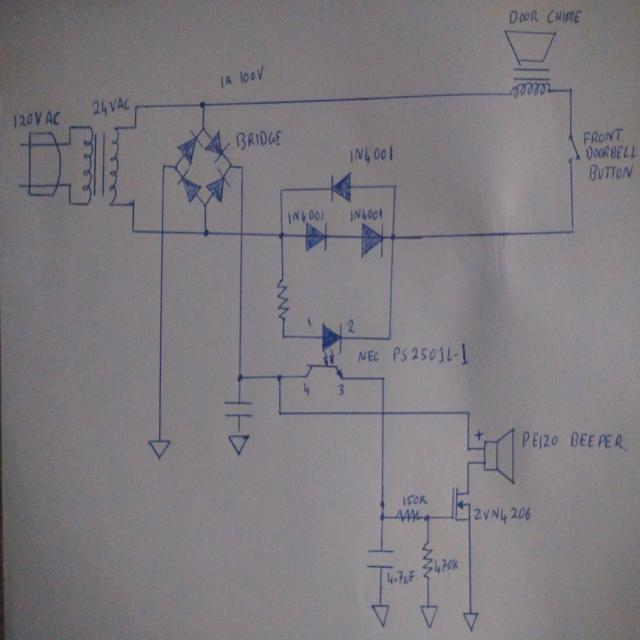capacitor: (365, 548, 395, 571), (223, 398, 253, 418)
crossover: (159, 226, 166, 236), (379, 408, 386, 417), (239, 230, 245, 238)
diode: (176, 130, 204, 166), (360, 221, 385, 260), (176, 168, 202, 204), (205, 167, 230, 203), (204, 130, 230, 163), (304, 220, 328, 253), (330, 170, 352, 204)
ground: (226, 430, 251, 458), (147, 438, 171, 461), (370, 603, 390, 629), (419, 604, 439, 630), (462, 610, 479, 632)
junction: (202, 227, 210, 238), (379, 512, 386, 522), (236, 373, 244, 381), (423, 514, 431, 522), (389, 232, 396, 241), (279, 230, 285, 240), (392, 183, 399, 191), (464, 408, 471, 416), (160, 162, 167, 170), (200, 125, 207, 133), (130, 199, 136, 208), (66, 139, 72, 148), (199, 100, 205, 109), (567, 87, 573, 96), (172, 163, 178, 172), (276, 374, 282, 382), (278, 186, 284, 194), (466, 444, 472, 452), (380, 375, 386, 382), (386, 334, 392, 341), (202, 201, 208, 208), (570, 228, 576, 235), (280, 332, 285, 340), (239, 164, 244, 172), (131, 228, 136, 235), (67, 200, 72, 207), (466, 459, 471, 466), (68, 181, 72, 189), (228, 162, 232, 170), (277, 410, 282, 416), (134, 104, 139, 110), (67, 124, 72, 130), (133, 124, 137, 131)
resistor: (275, 276, 291, 320), (421, 539, 434, 581), (394, 508, 420, 524)
switch: (567, 132, 582, 165)
terminal: (16, 181, 25, 190), (17, 140, 25, 148)
text: (355, 341, 472, 368), (521, 429, 628, 452), (473, 504, 532, 526), (508, 8, 582, 25), (219, 64, 265, 91), (235, 130, 282, 152), (349, 144, 393, 167), (587, 163, 634, 182), (92, 96, 130, 119), (584, 144, 638, 160), (13, 110, 60, 128), (583, 127, 623, 146), (287, 209, 325, 225), (386, 568, 416, 586), (433, 558, 459, 575), (336, 213, 366, 226), (402, 494, 428, 506), (302, 382, 311, 396), (347, 318, 355, 333), (336, 382, 344, 396), (306, 315, 313, 327)
transformer: (83, 124, 120, 208)
transistor: (449, 484, 472, 524)
